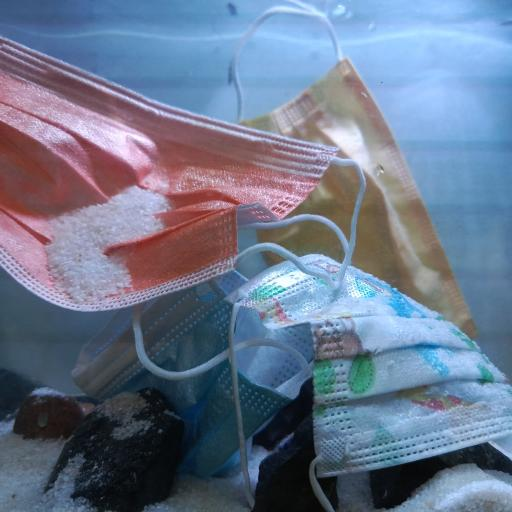mask: (0, 35, 340, 315), (234, 53, 479, 342), (224, 250, 512, 477), (70, 243, 316, 479)
